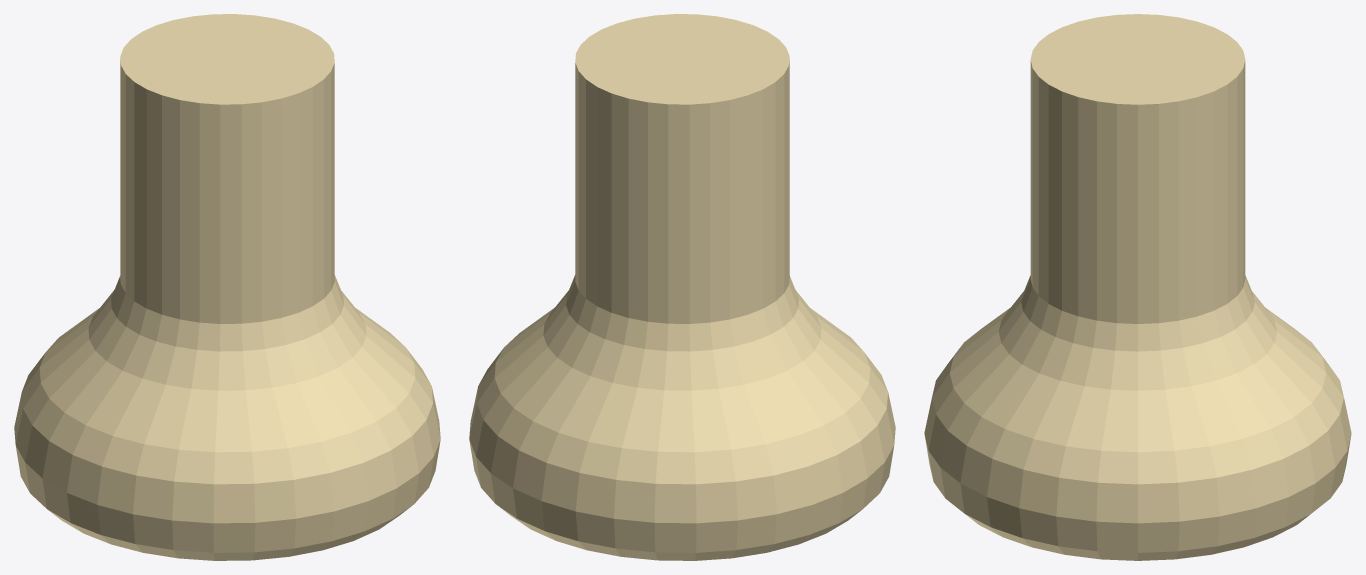
The model's file is shaft.fbx.
3 views of the same model, side by side, from view 1: azimuth 30°, elevation 25°; view 2: azimuth 150°, elevation 25°; view 3: azimuth 270°, elevation 25° (orthographic).
Parts seen in each view (by area): view 1: shaft; view 2: shaft; view 3: shaft.
Part boxes in pixels (left/top/right/bottom): shaft: left=14, top=14, right=440, bottom=560; shaft: left=469, top=14, right=895, bottom=560; shaft: left=924, top=14, right=1351, bottom=560.
Size of the model in its own units: 398 by 446 by 398.
Materials: 1 (1 with a texture image).
